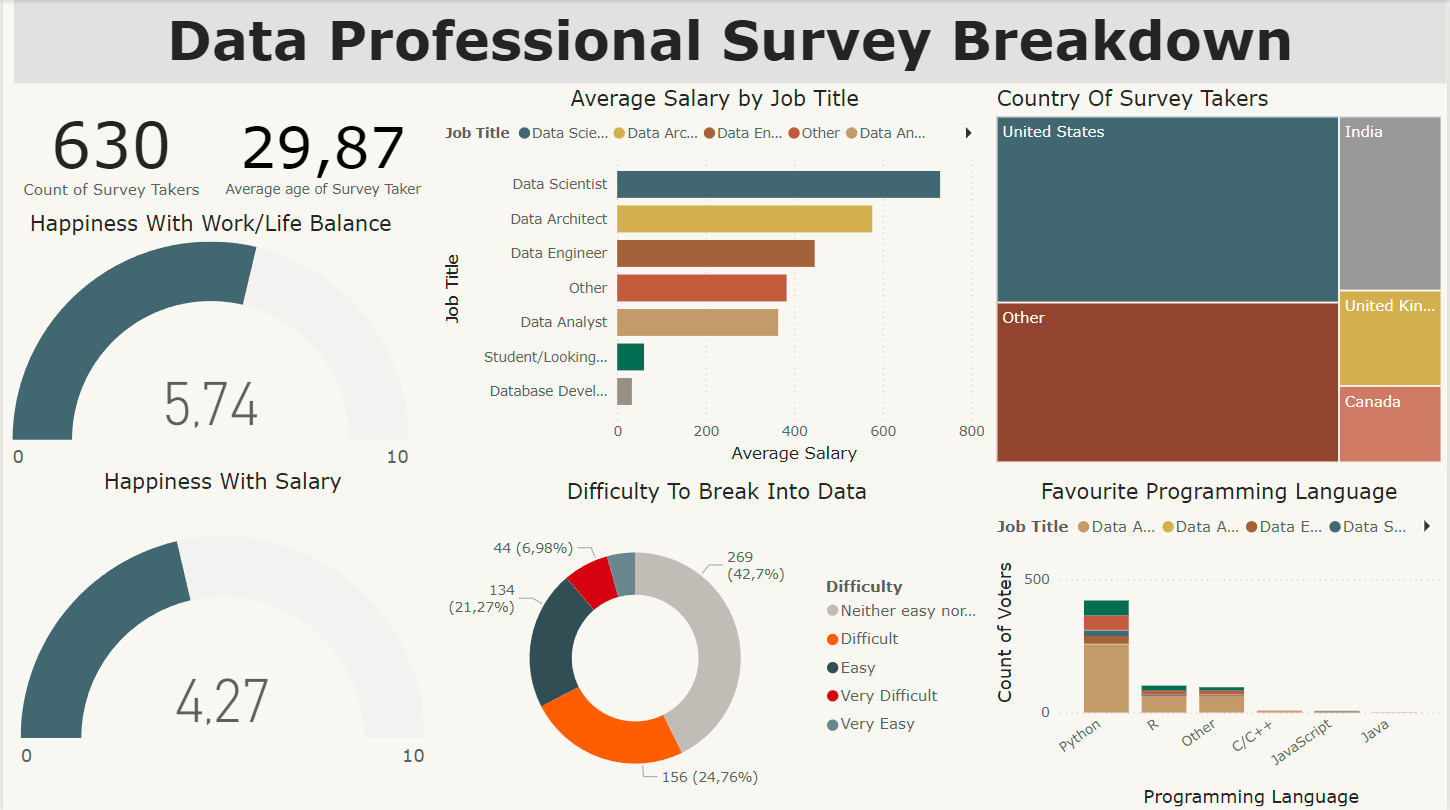

The page's visual inventory and layout, read from the dashboard file:
{"tool":"powerbi","page":{"name":"Page 1","canvas":[1280,720],"ordinal":0},"visuals":[{"type":"textbox","box":[9.7,0,1270.3,73.9],"z":0},{"type":"card","fields":{"Values":["Count(Data Professional Survey.Unique ID)"]},"box":[10.3,74.1,170.8,117.3],"z":1000},{"type":"card","fields":{"Values":["Avg(Data Professional Survey.Q10 - Current Age)"]},"box":[181.1,79.2,205.8,112.2],"z":2000},{"type":"columnChart","title":"Favourite Programming Language","fields":{"Category":["Data Professional Survey.Q5 - Favorite Programming Language.1"],"Y":["CountNonNull(Data Professional Survey.Unique ID)"],"Series":["Data Professional Survey.Q1 - Which Title Best Fits your Current Role?.1"]},"box":[875.6,423.9,404.4,296.3],"z":3000},{"type":"treemap","title":"Country Of Survey Takers","fields":{"Group":["Data Professional Survey.Q11 - Which Country do you live in?.1"],"Values":["CountNonNull(Data Professional Survey.Q11 - Which Country do you live in?.1)"]},"box":[875.6,75.1,404.4,339.5],"z":4000},{"type":"gauge","title":"Happiness With Work/Life Balance ","fields":{"Y":["Avg(Data Professional Survey.Q6 - How Happy are you in your Current Position with the following? (Work/Life Balance))"],"MinValue":["Min(Data Professional Survey.Q6 - How Happy are you in your Current Position with the following? (Work/Life Balance))"],"MaxValue":["Max(Data Professional Survey.Q6 - How Happy are you in your Current Position with the following? (Work/Life Balance))1"]},"box":[0,186.2,368.4,237.7],"z":5000},{"type":"gauge","title":"Happiness With Salary","fields":{"Y":["Avg(Data Professional Survey.Q6 - How Happy are you in your Current Position with the following? (Salary))"],"MinValue":["Min(Data Professional Survey.Q6 - How Happy are you in your Current Position with the following? (Salary))"],"MaxValue":["Max(Data Professional Survey.Q6 - How Happy are you in your Current Position with the following? (Salary))"]},"box":[10.3,414.7,368.4,305.6],"z":6000},{"type":"donutChart","title":"Difficulty To Break Into Data","fields":{"Category":["Data Professional Survey.Q7 - How difficult was it for you to break into Data?"],"Y":["CountNonNull(Data Professional Survey.Q7 - How difficult was it for you to break into Data?)"]},"box":[386.9,423.9,492.9,296.3],"z":7000},{"type":"barChart","title":"Average Salary by Job Title","fields":{"Y":["Avg(Data Professional Survey.Average Salary)"],"Category":["Data Professional Survey.Q1 - Which Title Best Fits your Current Role?.1"],"Series":["Data Professional Survey.Q1 - Which Title Best Fits your Current Role?.1"]},"box":[386.9,75.1,488.7,339.5],"z":8000}]}

Visuals, with their boxes in screenshot pixels (x1, y1, x2, y2), scaled from the page's 1280x720 canvas onto the 1450x810 screenshot:
textbox: crop(11, 0, 1449, 83)
card - Count(Data Professional Survey.Unique ID): crop(12, 83, 205, 215)
card - Avg(Data Professional Survey.Q10 - Current Age): crop(205, 89, 438, 215)
"Favourite Programming Language" columnChart: crop(992, 477, 1449, 809)
"Country Of Survey Takers" treemap: crop(992, 84, 1449, 466)
"Happiness With Work/Life Balance " gauge: crop(0, 209, 417, 477)
"Happiness With Salary" gauge: crop(12, 467, 429, 809)
"Difficulty To Break Into Data" donutChart: crop(438, 477, 997, 809)
"Average Salary by Job Title" barChart: crop(438, 84, 992, 466)
